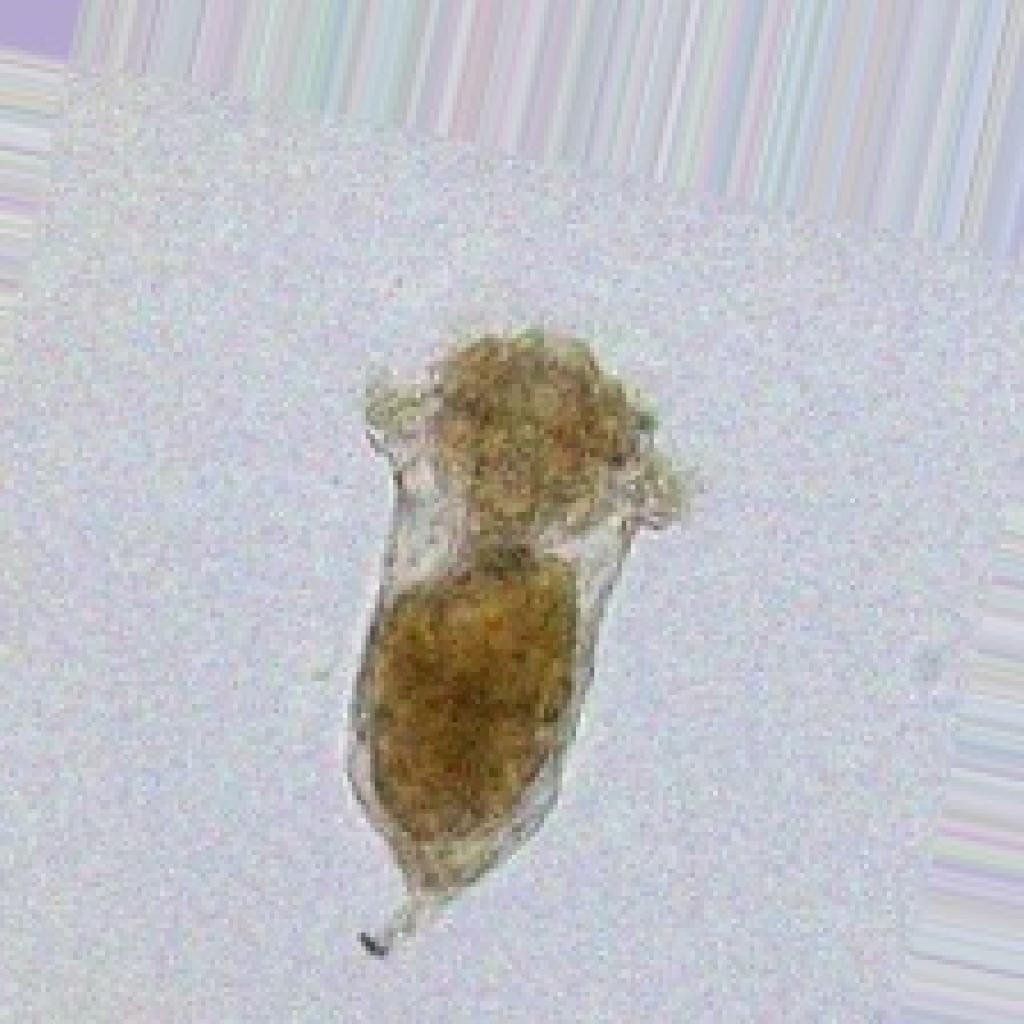Rotifer: (334, 320, 686, 960)
